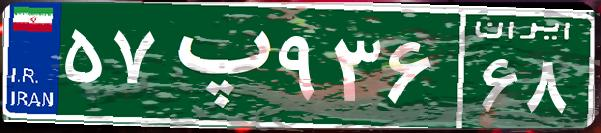3: (330, 28, 385, 110)
5: (57, 26, 110, 107)
6: (385, 28, 445, 110), (475, 38, 525, 113)
7: (110, 28, 158, 105)
8: (525, 38, 570, 115)
9: (273, 28, 330, 110)
پ: (158, 15, 273, 115)
